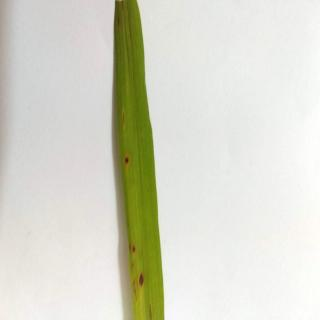bercak-Cokelat: (125, 242, 145, 298), (119, 151, 139, 170), (144, 301, 157, 320)
